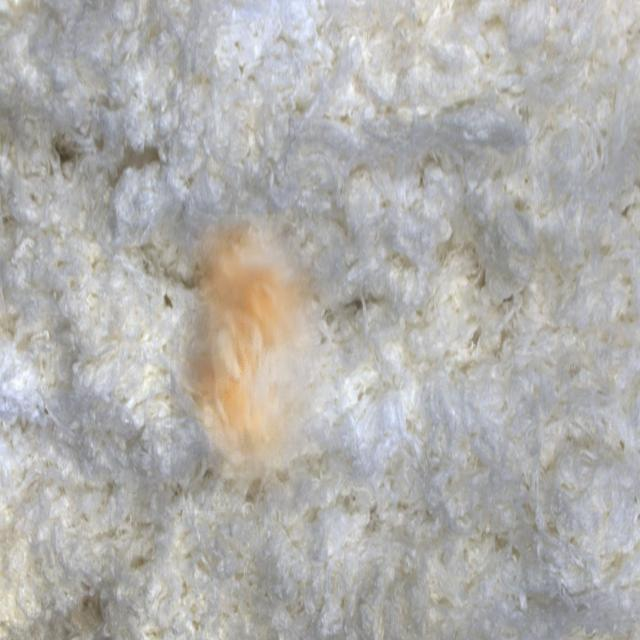dust: (171, 214, 333, 511)
